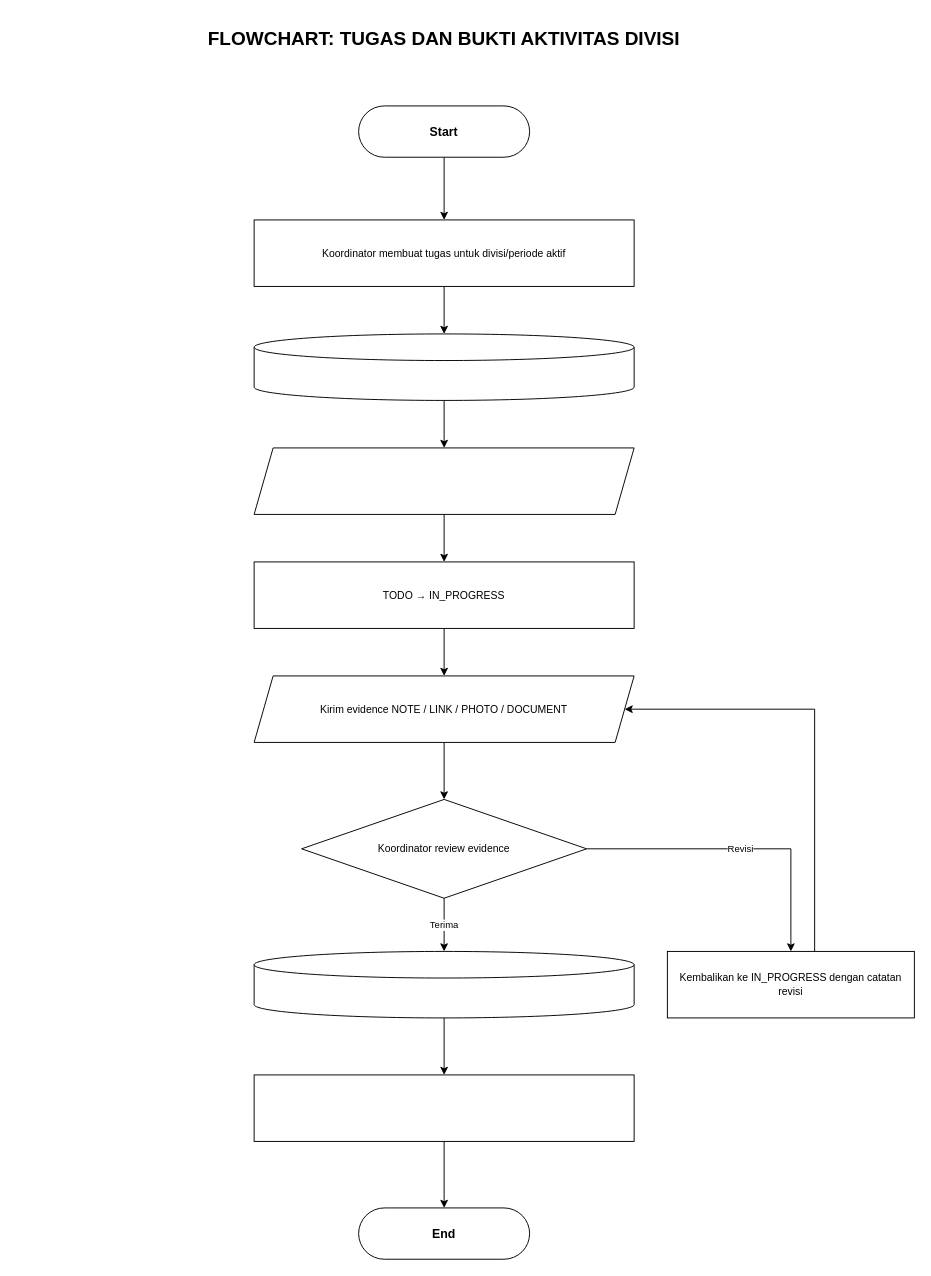
This 931x1276 diagram has some shape labels left out. Here are the shapes that lost their labels. From the top down, the box of each, then its label:
(253, 333, 634, 400): Assign anggota, prioritas, dan due date
(253, 447, 634, 514): Anggota melihat Tugas Saya
(253, 950, 634, 1018): Set DONE dan catat completion
(253, 1074, 634, 1141): Masuk rekap aktivitas divisi
